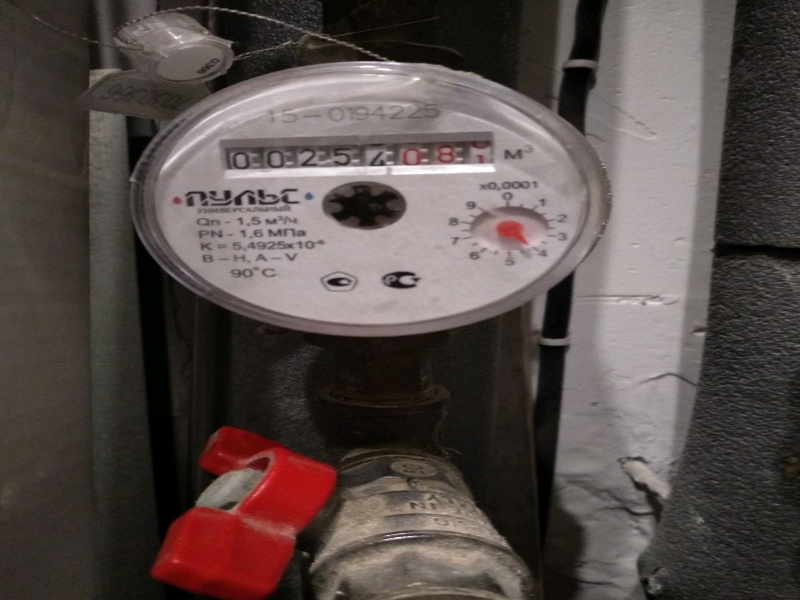meter: (216, 141, 490, 170)
